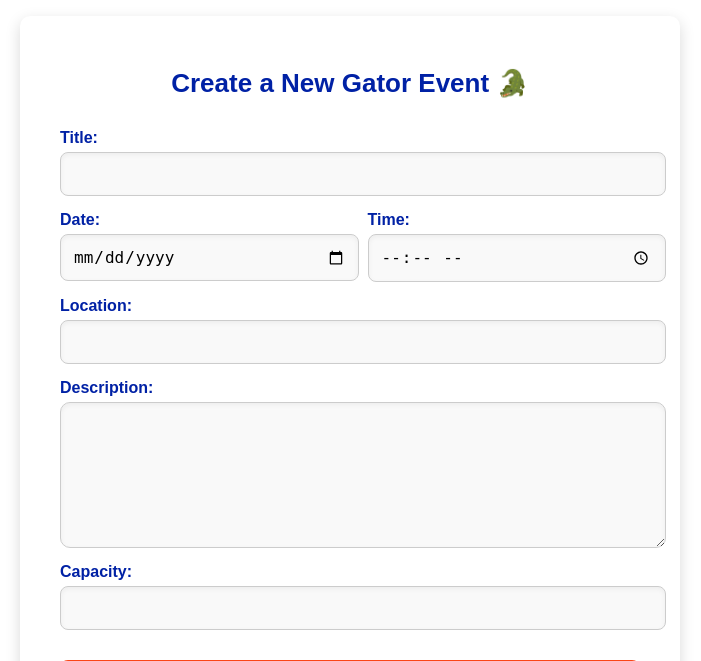
Test: EventCreate Component › allows user to fill and submit the form
Type "Test Event" into the field labelled "Title:" at (363, 174), box [60,152,666,196]
Type "2025-06-15" into the date field labelled "Date:" at (209, 258), box [60,234,358,282]
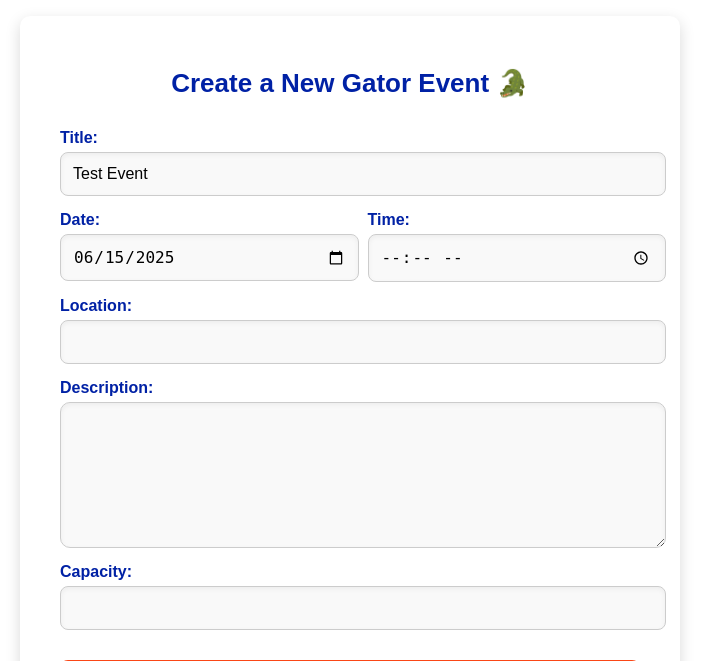
Type "10:00" into the time field labelled "Time:" at (517, 258), box [368,234,666,282]
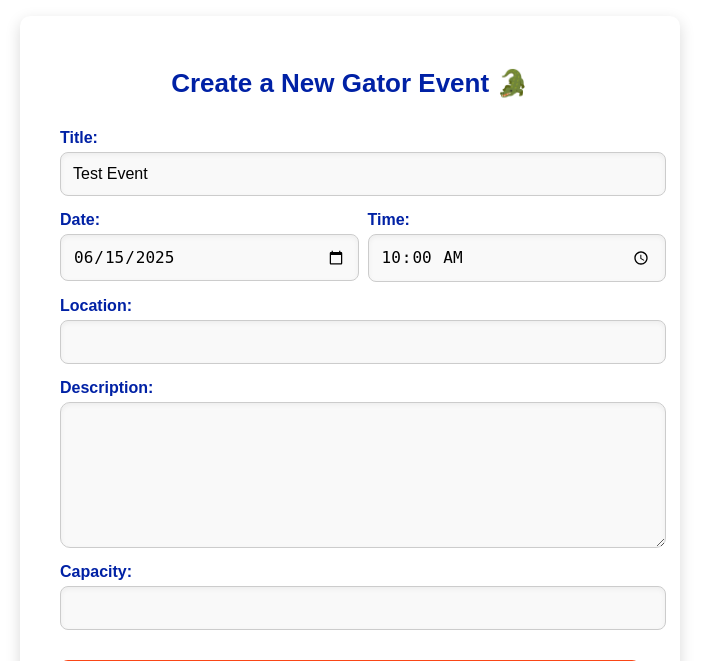
Type "UF Hall" into the field labelled "Location:" at (363, 342), box [60,320,666,364]
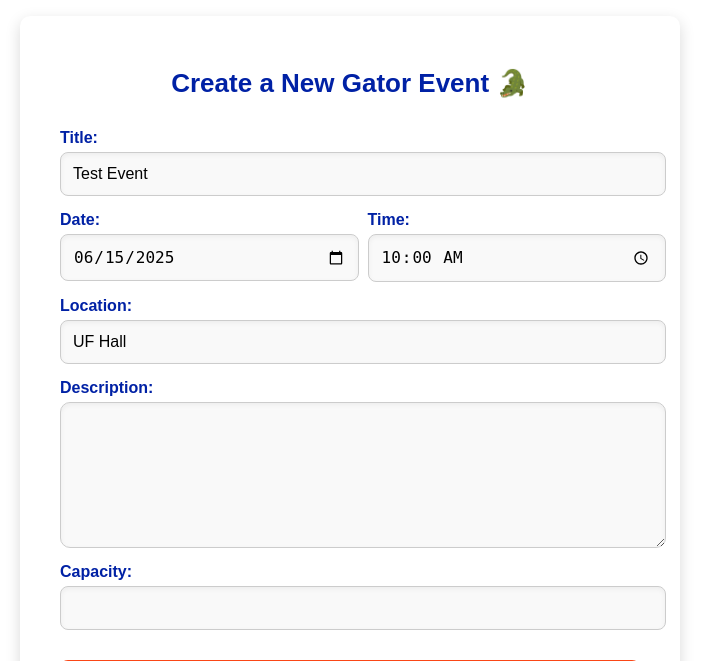
Type "This is a test event." into the text box labelled "Description:" at (363, 475), box [60,402,666,548]
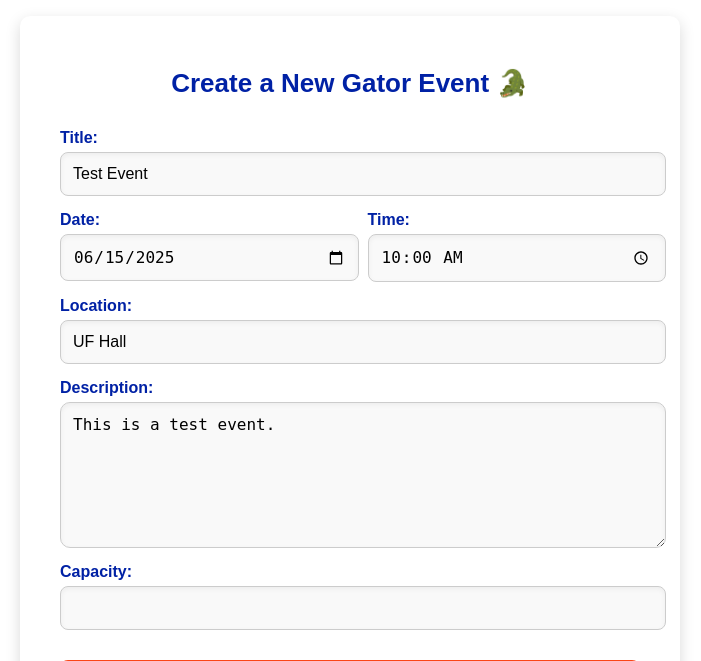
Type "100" into the number field labelled "Capacity:" at (363, 608), box [60,586,666,630]
(page scrolled)
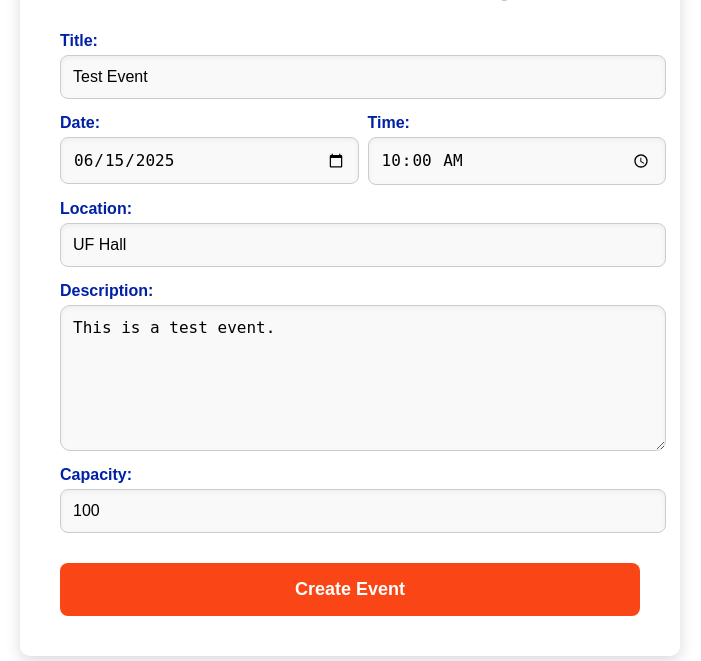
Click the button "Create Event" at (350, 590), box [60,563,640,616]
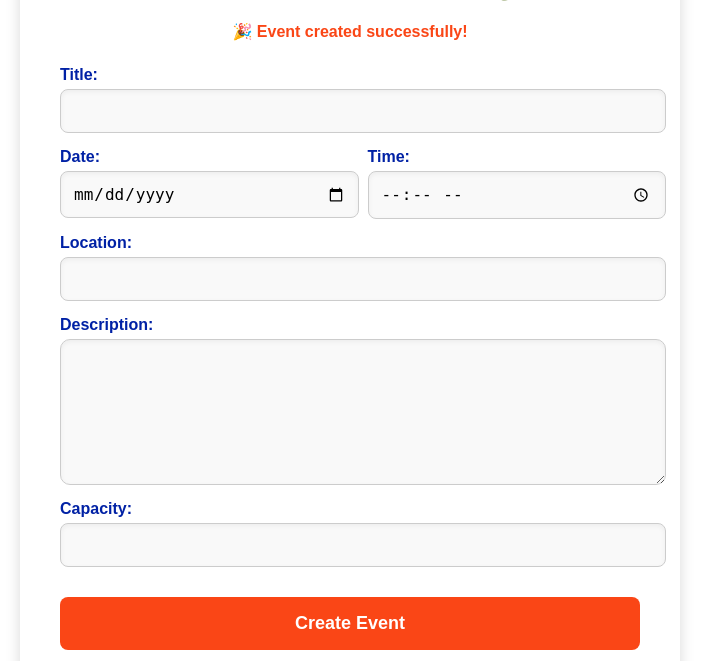
Now the text "🎉 Event created successfully!" is shown, box [232,23,468,40]
